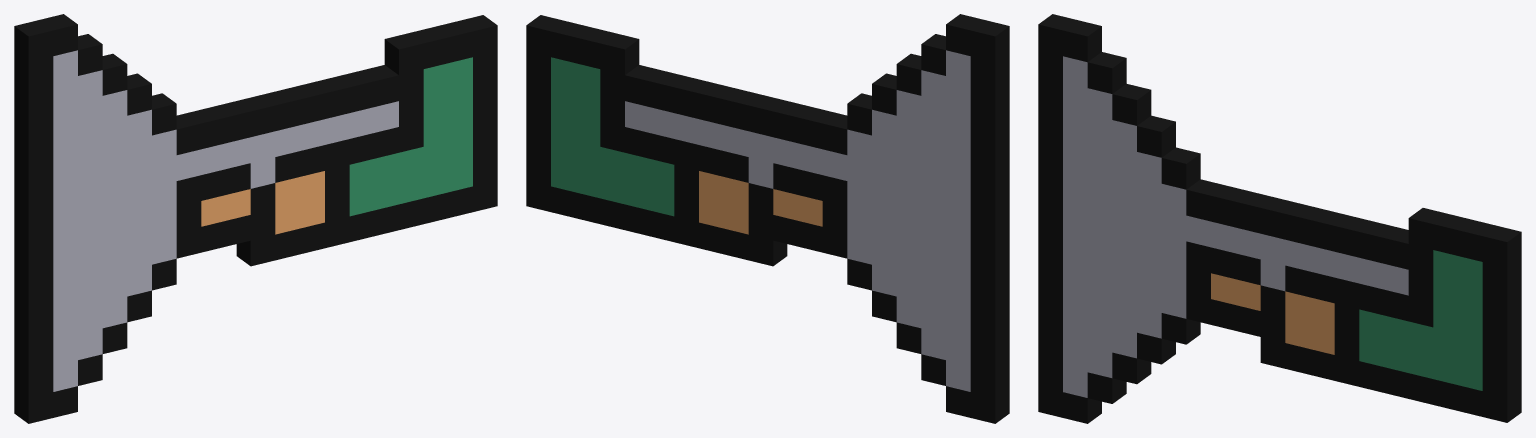
The model's file is VacuumGun.obj.
The picture shows the model from 3 angles, left to right: view 1: azimuth 30°, elevation 25°; view 2: azimuth 150°, elevation 25°; view 3: azimuth 330°, elevation 25°; orthographic projection.
Parts seen in each view (by area): view 1: Gun; view 2: Gun; view 3: Gun.
Part boxes in pixels (<box>): Gun: <box>14,14,497,423</box>; Gun: <box>526,14,1009,423</box>; Gun: <box>1038,14,1521,423</box>.
Size of the model in its own units: 1.9 by 1.5 by 0.1.
1 material, 1 textured.
